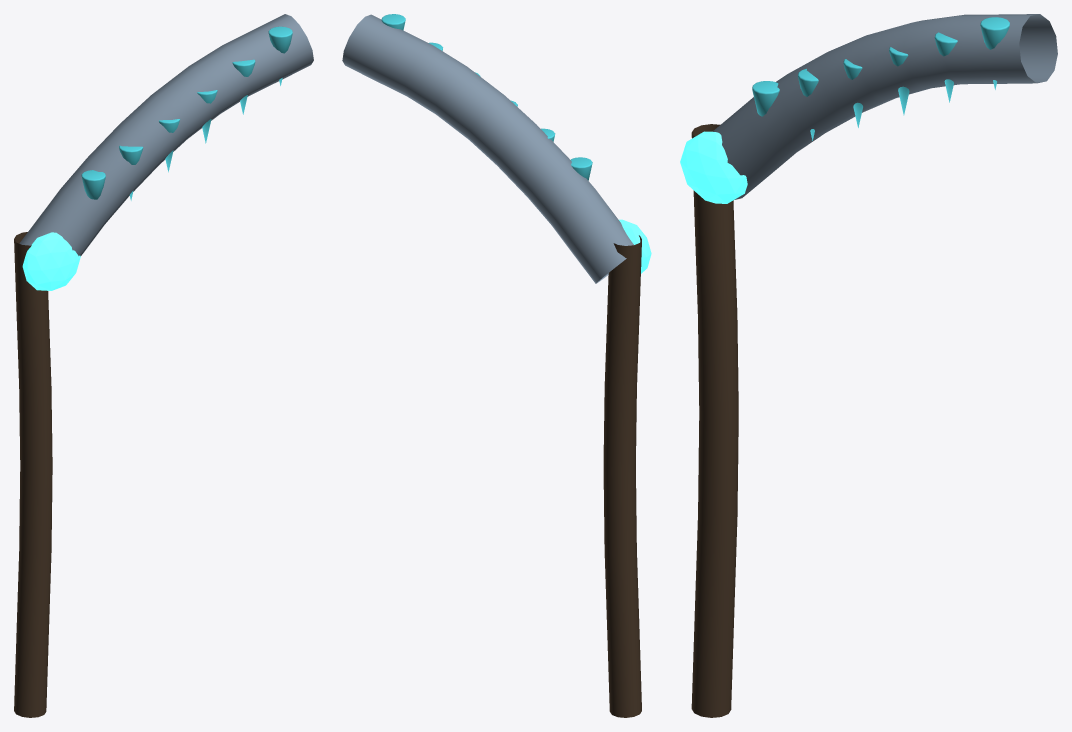
The model's file is scythe_v8.glb.
3 renders of one model, left to right at view 1: azimuth 30°, elevation 25°; view 2: azimuth 150°, elevation 25°; view 3: azimuth 330°, elevation 25°, orthographic. The views are drawn at different scales.
Visible parts, largest first — view 1: BONE_BLADE_PRIMARY, REAPER_SHAFT_SECONDARY, BONE_REAPER_EYE_EMISSIVE, BONE_TOOTH_ACCENT, BONE_TOOTH_ACCENT.005; view 2: BONE_BLADE_PRIMARY, REAPER_SHAFT_SECONDARY, BONE_REAPER_EYE_EMISSIVE; view 3: BONE_BLADE_PRIMARY, REAPER_SHAFT_SECONDARY, BONE_REAPER_EYE_EMISSIVE, BONE_TOOTH_ACCENT.005, BONE_TOOTH_ACCENT.
Part boxes in pixels (x1=…): BONE_BLADE_PRIMARY: x1=19, y1=14, x2=313, y2=256; REAPER_SHAFT_SECONDARY: x1=14, y1=232, x2=52, y2=717; BONE_REAPER_EYE_EMISSIVE: x1=22, y1=232, x2=80, y2=290; BONE_TOOTH_ACCENT: x1=81, y1=170, x2=105, y2=199; BONE_TOOTH_ACCENT.005: x1=268, y1=26, x2=292, y2=85; BONE_BLADE_PRIMARY: x1=342, y1=14, x2=633, y2=283; REAPER_SHAFT_SECONDARY: x1=603, y1=235, x2=641, y2=717; BONE_REAPER_EYE_EMISSIVE: x1=619, y1=219, x2=651, y2=273; BONE_BLADE_PRIMARY: x1=713, y1=14, x2=1057, y2=199; REAPER_SHAFT_SECONDARY: x1=691, y1=124, x2=738, y2=717; BONE_REAPER_EYE_EMISSIVE: x1=680, y1=131, x2=747, y2=203; BONE_TOOTH_ACCENT.005: x1=980, y1=17, x2=1009, y2=89; BONE_TOOTH_ACCENT: x1=752, y1=81, x2=779, y2=116.
Size of the model in its own units: 1.85 by 3.88 by 0.35.
